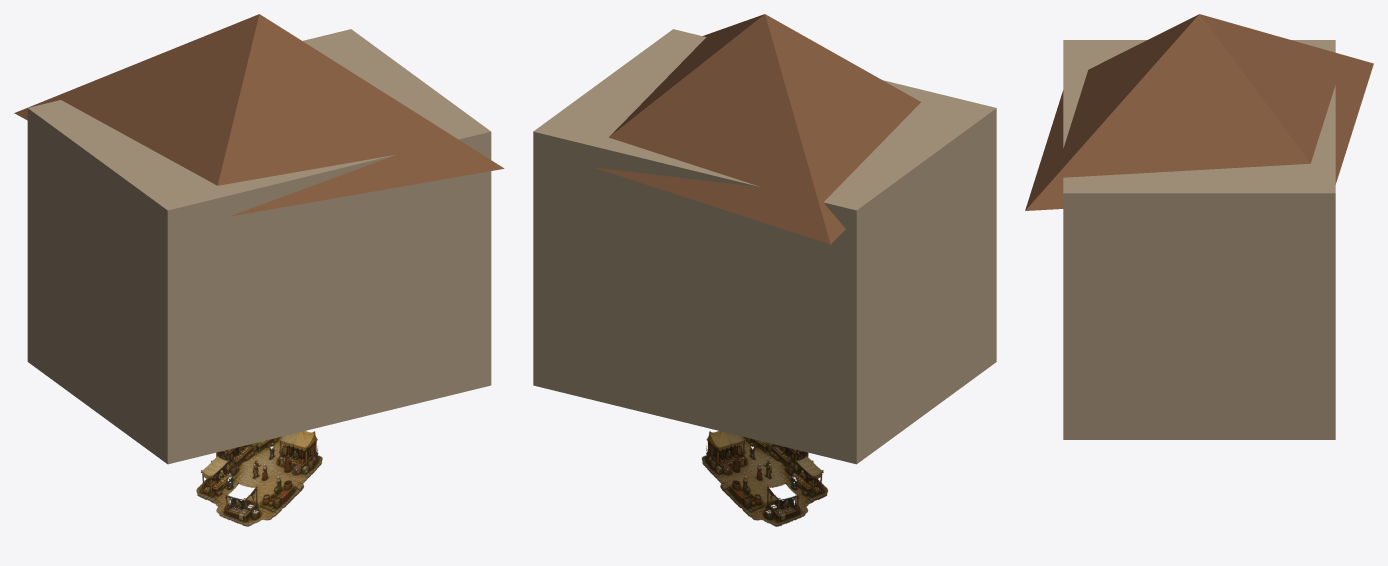
Rendered from mercato.glb.
3 renders of one model, left to right at view 1: azimuth 30°, elevation 25°; view 2: azimuth 150°, elevation 25°; view 3: azimuth 270°, elevation 25°, orthographic. The views are drawn at different scales.
Visible parts, largest first — view 1: Body, Roof, CatalogTexture; view 2: Body, Roof, CatalogTexture; view 3: Body, Roof.
Part boxes in pixels (x1,y1,x2,y2): Body: [27, 29, 491, 464]; Roof: [14, 14, 504, 216]; CatalogTexture: [196, 431, 322, 526]; Body: [533, 29, 996, 464]; Roof: [595, 14, 920, 244]; CatalogTexture: [701, 431, 828, 526]; Body: [1063, 40, 1335, 439]; Roof: [1025, 14, 1373, 210].
Bounding box in the file's own units: 2 × 3.09 × 1.92.
Materials: 3 (1 with a texture image).
